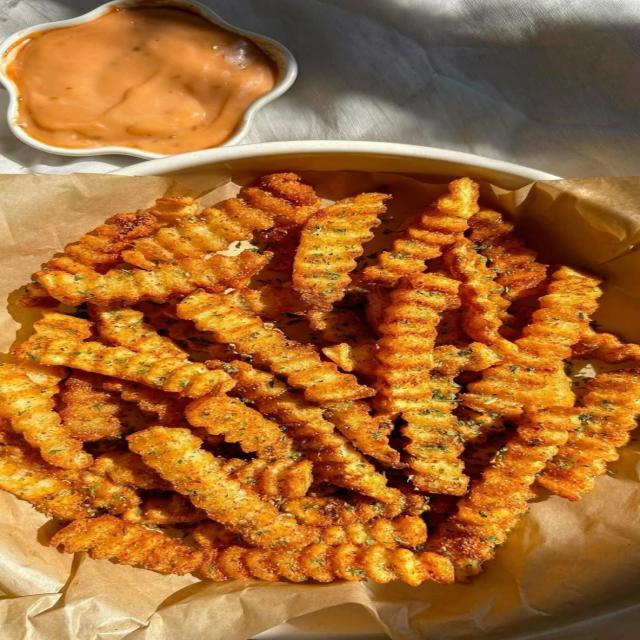potato fries: (0, 174, 639, 584), (428, 408, 579, 579), (128, 427, 313, 548), (178, 292, 373, 403), (538, 370, 639, 500), (361, 178, 478, 286), (34, 252, 269, 305), (294, 194, 390, 310), (201, 543, 453, 585), (0, 364, 92, 468), (52, 516, 202, 574), (0, 443, 93, 520), (470, 208, 546, 300), (185, 396, 293, 459), (91, 306, 186, 359), (60, 372, 123, 441), (574, 327, 639, 364)
